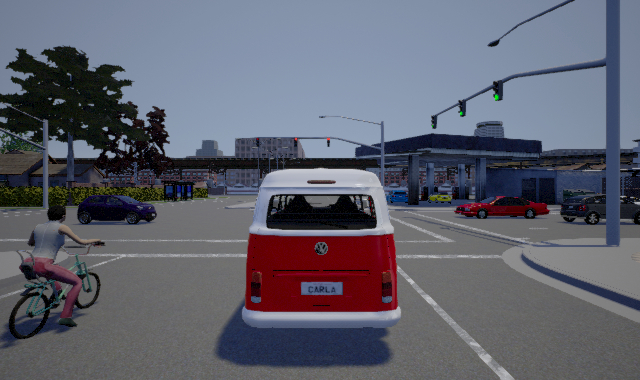bike: (8, 204, 106, 339)
traffic_light: (493, 80, 503, 101), (458, 99, 466, 117), (431, 115, 437, 129), (256, 137, 260, 147), (327, 137, 330, 147), (294, 137, 297, 147)
vehicle: (242, 168, 408, 328), (560, 189, 640, 224), (77, 195, 157, 224), (454, 196, 550, 219), (385, 188, 410, 204), (428, 190, 453, 204)
